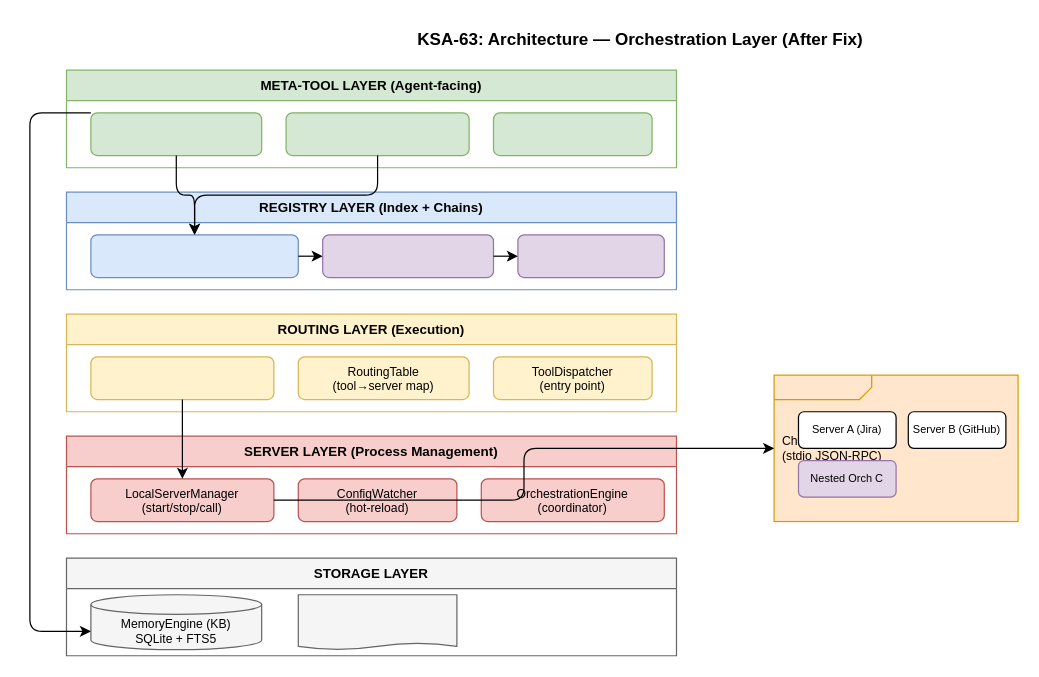
The diagram is 1039 pixels wide and 677 high, and some of its shapes have lost their labels. The shapes that lost their labels are listed below. From the top down, each one's centre as x and y in pixels, then its label:
pixel 176 134: FindToolsTool (semantic search)
pixel 377 134: ExecuteDynamicTool (chain execution)
pixel 572 134: MetaToolDispatcher
pixel 194 256: UnifiedRegistry (tools + chains + search)
pixel 407 256: SemanticGrouper (NEW — similarity)
pixel 590 256: Tokenizer (NEW — text split)
pixel 182 378: SmartRouter (timeout propagation)
pixel 377 622: orchestration.json (config)
